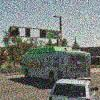buses: (19, 47, 94, 84)
